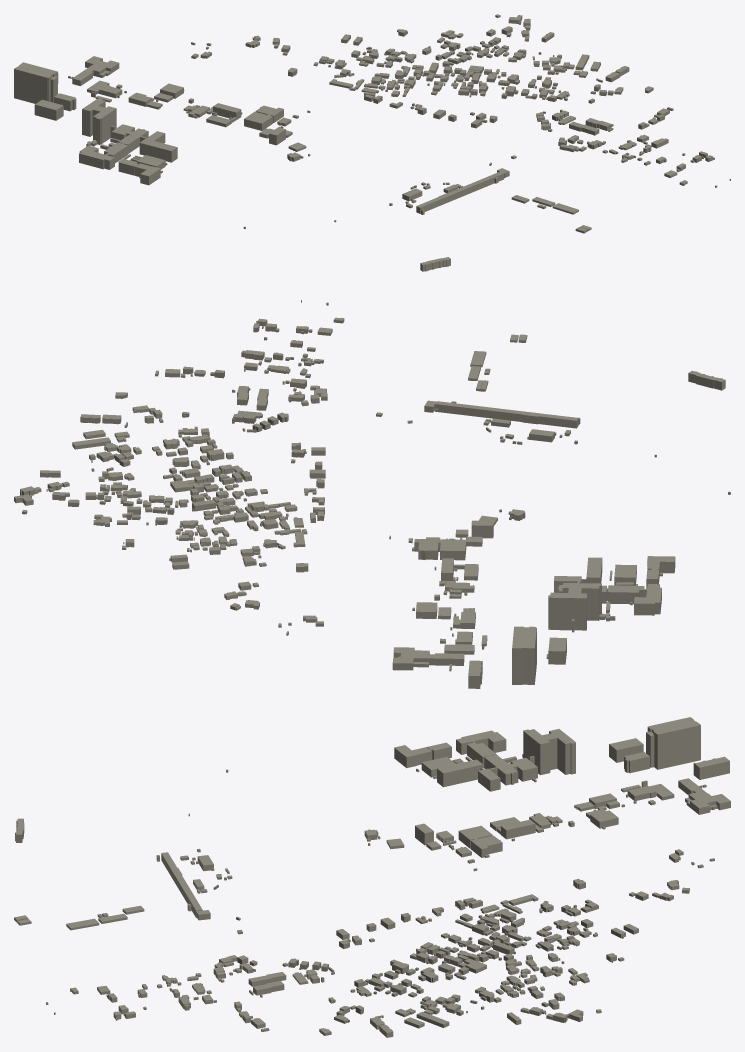
The model's file is 54401037_bldg_6697_op.fbx.
The picture shows the model from 3 angles, top to bottom: view 1: azimuth 30°, elevation 25°; view 2: azimuth 150°, elevation 25°; view 3: azimuth 270°, elevation 25°; orthographic projection. The views are drawn at different scales.
Visible parts, largest first — view 1: bldg_eb1808be-e5f9-40d7-a4f8-b26db5a79051, bldg_4e158fff-e96b-4187-b113-28e584638873, bldg_6157eb6f-2faa-4e1d-b17c-6ee08d4e1240, bldg_67b87717-858a-4460-9d68-043234c9b2e7, bldg_616502e8-3f98-4973-88b0-ef7654a01fe0, bldg_fa01b9c5-410a-4eb0-8831-07ec40ad3727, bldg_220c7296-0a99-4b83-b3c2-2ab9829365ac, bldg_f443485e-d4d9-4b33-98c6-b7689b02a62d; view 2: bldg_6157eb6f-2faa-4e1d-b17c-6ee08d4e1240, bldg_67b87717-858a-4460-9d68-043234c9b2e7, bldg_eb1808be-e5f9-40d7-a4f8-b26db5a79051, bldg_4e158fff-e96b-4187-b113-28e584638873, bldg_616502e8-3f98-4973-88b0-ef7654a01fe0, bldg_fa01b9c5-410a-4eb0-8831-07ec40ad3727; view 3: bldg_eb1808be-e5f9-40d7-a4f8-b26db5a79051, bldg_4e158fff-e96b-4187-b113-28e584638873, bldg_6157eb6f-2faa-4e1d-b17c-6ee08d4e1240, bldg_616502e8-3f98-4973-88b0-ef7654a01fe0, bldg_fa01b9c5-410a-4eb0-8831-07ec40ad3727, bldg_220c7296-0a99-4b83-b3c2-2ab9829365ac, bldg_67b87717-858a-4460-9d68-043234c9b2e7, bldg_db055610-f6dd-4602-979b-1d5694a82d10, bldg_ea34dd95-798b-4ee9-ad19-bd15df09199a, bldg_f443485e-d4d9-4b33-98c6-b7689b02a62d.
Part boxes in pixels (x1,y1,x2,y2): bldg_eb1808be-e5f9-40d7-a4f8-b26db5a79051: (79,124,148,169); bldg_4e158fff-e96b-4187-b113-28e584638873: (14,62,57,103); bldg_6157eb6f-2faa-4e1d-b17c-6ee08d4e1240: (82,98,116,144); bldg_67b87717-858a-4460-9d68-043234c9b2e7: (416,171,504,213); bldg_616502e8-3f98-4973-88b0-ef7654a01fe0: (72,56,119,85); bldg_fa01b9c5-410a-4eb0-8831-07ec40ad3727: (244,105,283,130); bldg_220c7296-0a99-4b83-b3c2-2ab9829365ac: (139,138,177,162); bldg_f443485e-d4d9-4b33-98c6-b7689b02a62d: (34,99,63,120); bldg_6157eb6f-2faa-4e1d-b17c-6ee08d4e1240: (548,583,601,630); bldg_67b87717-858a-4460-9d68-043234c9b2e7: (435,401,578,428); bldg_eb1808be-e5f9-40d7-a4f8-b26db5a79051: (557,584,661,615); bldg_4e158fff-e96b-4187-b113-28e584638873: (512,626,536,684); bldg_616502e8-3f98-4973-88b0-ef7654a01fe0: (392,647,464,670); bldg_fa01b9c5-410a-4eb0-8831-07ec40ad3727: (414,539,466,560); bldg_eb1808be-e5f9-40d7-a4f8-b26db5a79051: (456,730,537,785); bldg_4e158fff-e96b-4187-b113-28e584638873: (647,717,700,769); bldg_6157eb6f-2faa-4e1d-b17c-6ee08d4e1240: (523,729,575,775); bldg_616502e8-3f98-4973-88b0-ef7654a01fe0: (678,778,730,814); bldg_fa01b9c5-410a-4eb0-8831-07ec40ad3727: (458,825,502,857); bldg_220c7296-0a99-4b83-b3c2-2ab9829365ac: (437,759,483,787); bldg_67b87717-858a-4460-9d68-043234c9b2e7: (161,852,202,917); bldg_db055610-f6dd-4602-979b-1d5694a82d10: (693,756,729,779); bldg_ea34dd95-798b-4ee9-ad19-bd15df09199a: (394,745,431,768); bldg_f443485e-d4d9-4b33-98c6-b7689b02a62d: (609,738,643,762).
Size of the model in its own units: 933 by 51.6 by 954.
1 material, 1 textured.
